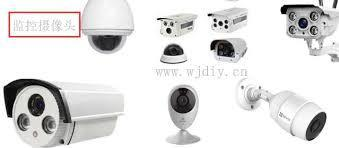maru: (81, 0, 138, 63), (158, 81, 210, 137), (154, 42, 196, 70)
tutu: (2, 76, 130, 148), (263, 84, 330, 146), (277, 3, 339, 47)
